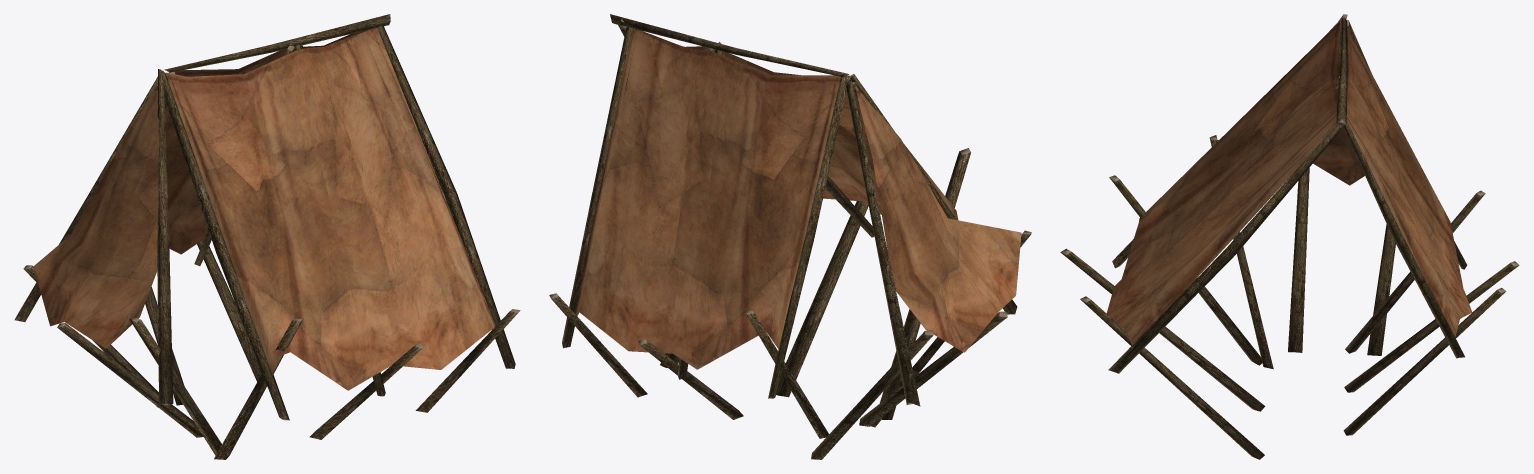
The model's file is poi_all_lair_wooden_l1.fbx.
The picture shows the model from 3 angles, left to right: view 1: azimuth 30°, elevation 25°; view 2: azimuth 150°, elevation 25°; view 3: azimuth 270°, elevation 25°; orthographic projection. The views are drawn at different scales.
Visible parts, largest first — view 1: mesh_node; view 2: mesh_node; view 3: mesh_node.
Boxes of the visible parts, x1,y1,x2,y2 form: mesh_node: (14, 14, 520, 459); mesh_node: (549, 14, 1031, 459); mesh_node: (1060, 14, 1519, 459).
Bounding box in the file's own units: 8.18 × 7.88 × 9.53.
